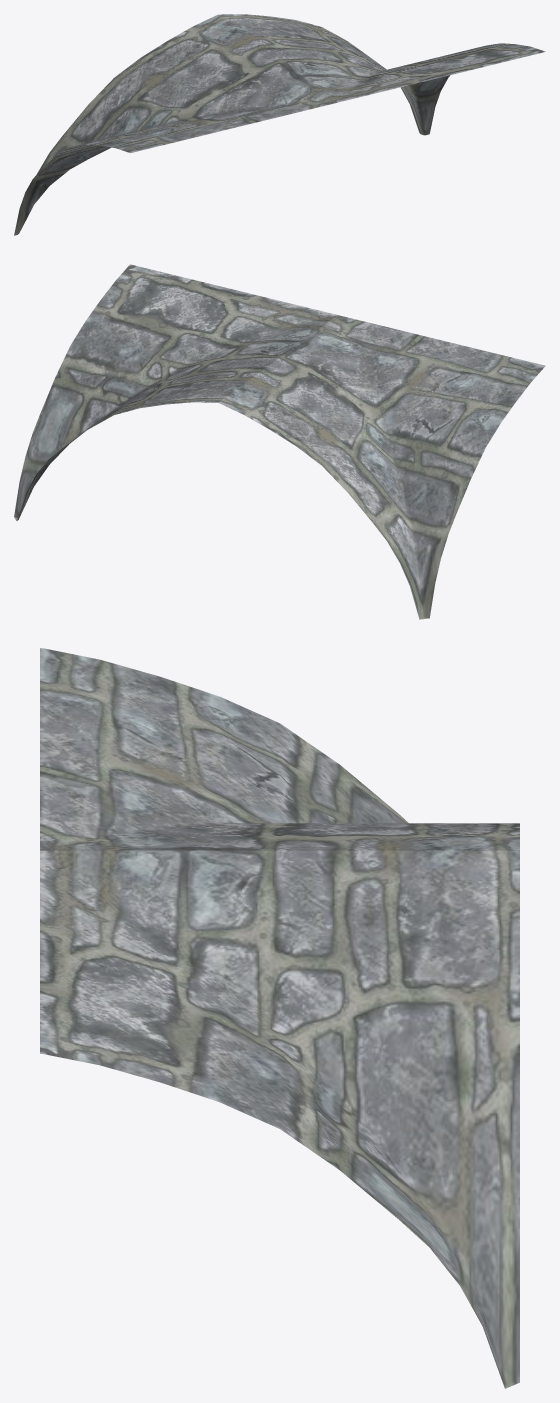
File: SM_Crypt_Ceiling_Half_B.glb
3 views of the same model, one above another, from view 1: azimuth 30°, elevation 25°; view 2: azimuth 150°, elevation 25°; view 3: azimuth 270°, elevation 25° (orthographic). The views are drawn at different scales.
Visible parts, largest first — view 1: SM_Crypt_Ceiling_Half_B; view 2: SM_Crypt_Ceiling_Half_B; view 3: SM_Crypt_Ceiling_Half_B.
Part boxes in pixels (x1,y1,x2,y2): SM_Crypt_Ceiling_Half_B: (14,14,545,235); SM_Crypt_Ceiling_Half_B: (14,264,545,619); SM_Crypt_Ceiling_Half_B: (40,648,519,1388).
Size of the model in its own units: 5 by 1.93 by 2.5.
1 material, 1 textured.
